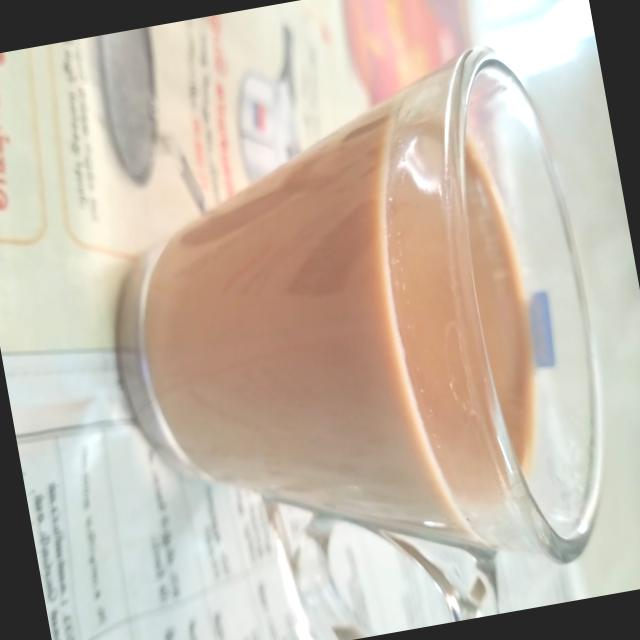glass-VX4N: (70, 26, 638, 640)
